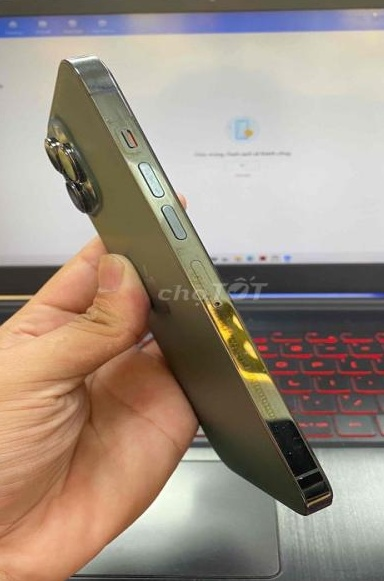scratch: (177, 246, 282, 421), (81, 62, 136, 119), (275, 424, 315, 468)
